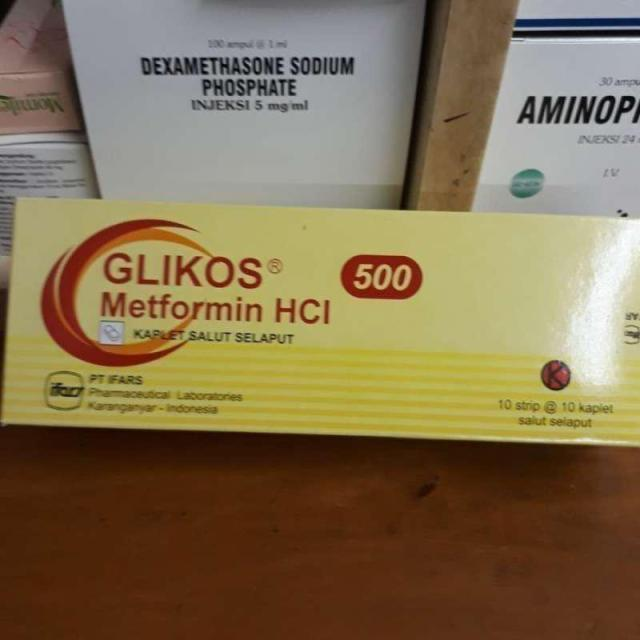drug-name: (98, 246, 276, 289)
